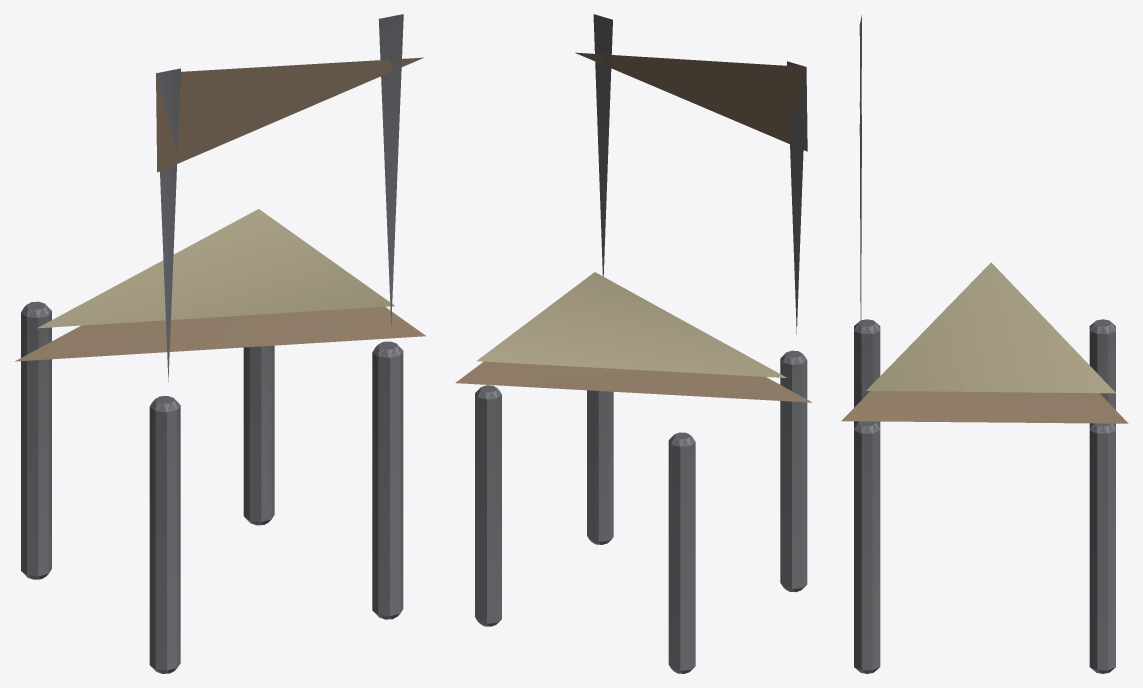
The model's file is furn_dining_chair__walnut_low.glb.
3 renders of one model, left to right at view 1: azimuth 30°, elevation 25°; view 2: azimuth 150°, elevation 25°; view 3: azimuth 270°, elevation 25°, orthographic. The views are drawn at different scales.
Size of the model in its own units: 0.584 by 0.9803 by 0.4637.
